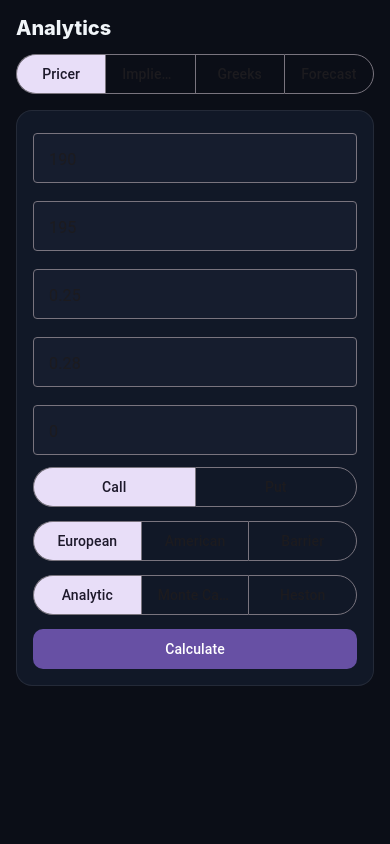
Test case: AnalyticsScreen tabs › switches to Forecast
What coordinates should you click on to do the following:
click the button "Forecast"
I would click on:
 (329, 74)
Its box is [285, 55, 373, 93].
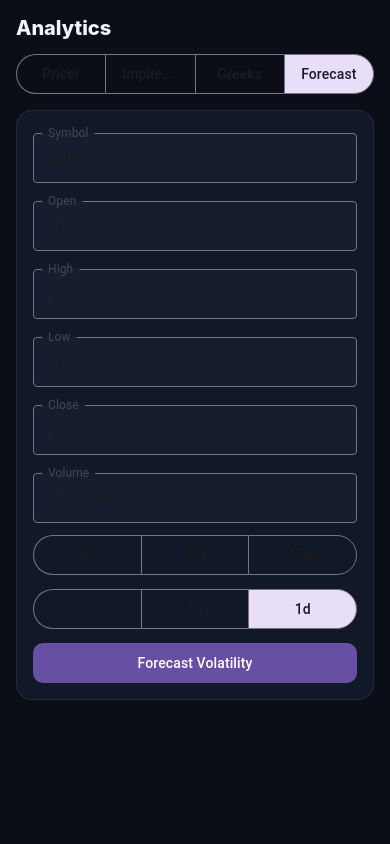
Result: the text "Forecast Volatility" is shown at [138, 653, 252, 673]
